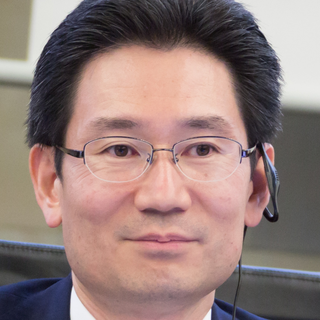eye: (91, 140, 143, 166), (176, 141, 228, 165)
